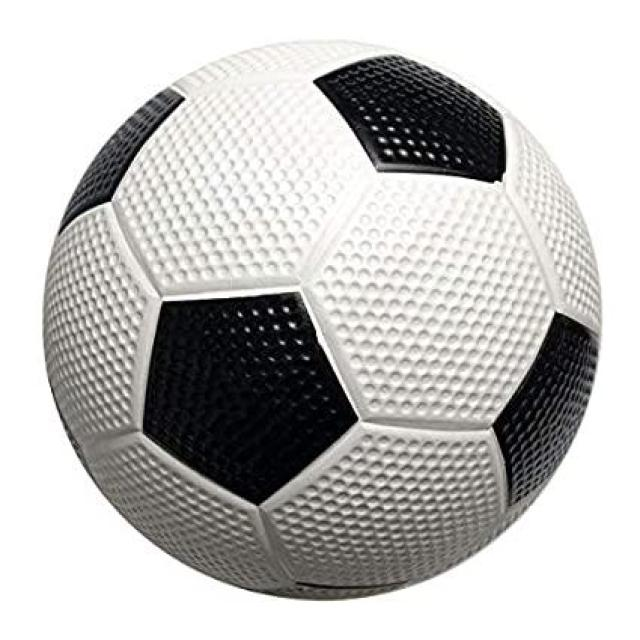Soccer Ball: (39, 42, 598, 604)
